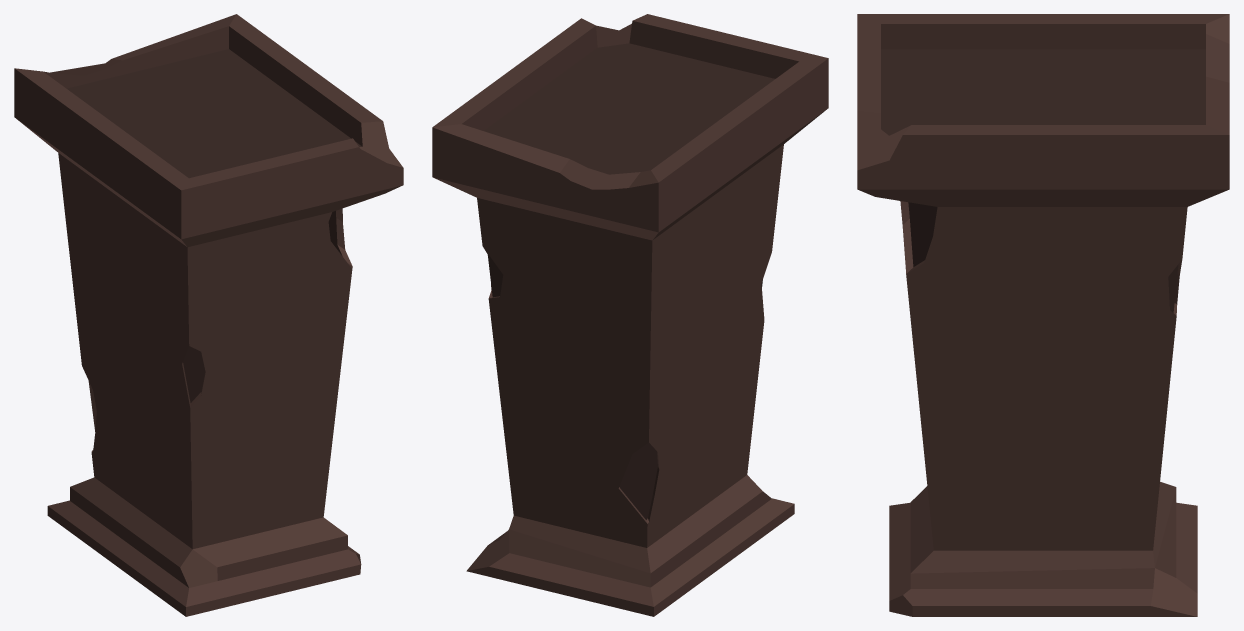
File: Big Pot without plant.fbx
The picture shows the model from 3 angles, left to right: view 1: azimuth 30°, elevation 25°; view 2: azimuth 150°, elevation 25°; view 3: azimuth 270°, elevation 25°; orthographic projection. The views are drawn at different scales.
Visible parts, largest first — view 1: Big pot without plant; view 2: Big pot without plant; view 3: Big pot without plant.
Part boxes in pixels (left/top/right/bottom): Big pot without plant: left=14, top=14, right=403, bottom=616; Big pot without plant: left=432, top=14, right=828, bottom=616; Big pot without plant: left=857, top=14, right=1229, bottom=616.
Bounding box in the file's own units: 157 × 298 × 204.
